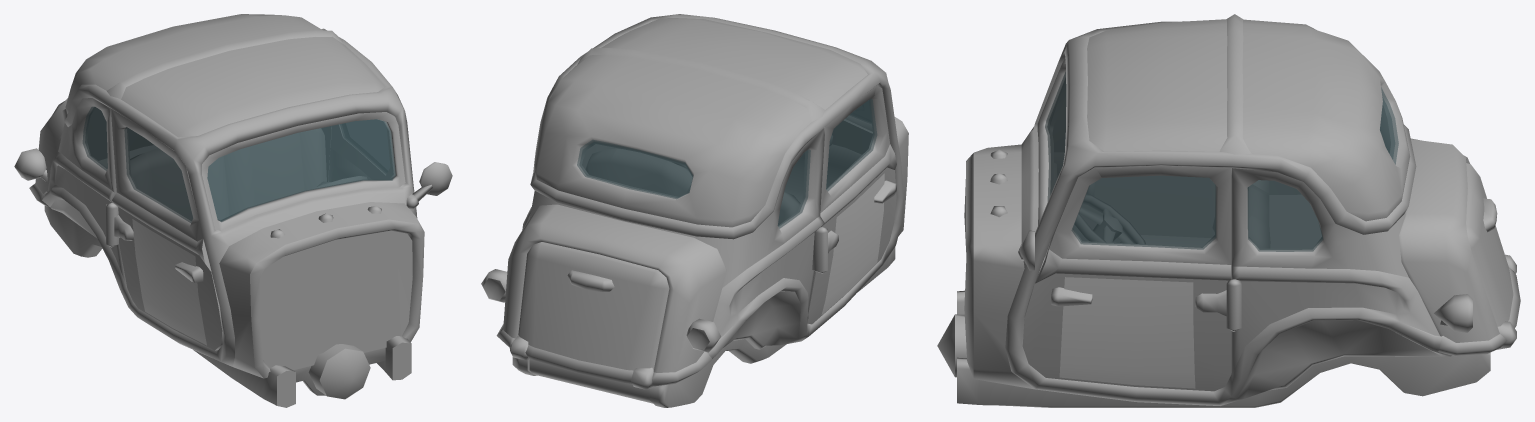
Rendered from Body_Anglia.fbx.
3 views of the same model, side by side, from view 1: azimuth 30°, elevation 25°; view 2: azimuth 150°, elevation 25°; view 3: azimuth 270°, elevation 25° (orthographic). The views are drawn at different scales.
Parts seen in each view (by area): view 1: Anglia_Body_Mesh, Anglia_Body_Window_Mesh, Anglia_Door_Right_Mesh, Anglia_Door_Right_Decal_Mesh, Anglia_Door_Right_Window_Mesh, Anglia_Door_Left_Mesh, Anglia_Door_Left_Window_Mesh, Anglia_Body_Rear_Trunk_Mesh; view 2: Anglia_Body_Mesh, Anglia_Body_Rear_Trunk_Mesh, Anglia_Door_Right_Mesh, Anglia_Body_Window_Mesh, Anglia_Door_Right_Decal_Mesh, Anglia_Door_Right_Window_Mesh; view 3: Anglia_Body_Mesh, Anglia_Door_Left_Mesh, Anglia_Body_Rear_Trunk_Mesh, Anglia_Door_Left_Decal_Mesh, Anglia_Door_Left_Window_Mesh, Anglia_Door_Right_Mesh, Anglia_Body_Window_Mesh, Body_SteerWheel_Mesh.
Boxes of the visible parts, <box> form: Anglia_Body_Mesh: <box>14,14,452,407</box>; Anglia_Body_Window_Mesh: <box>82,106,395,221</box>; Anglia_Door_Right_Mesh: <box>111,109,222,350</box>; Anglia_Door_Right_Decal_Mesh: <box>132,219,206,345</box>; Anglia_Door_Right_Window_Mesh: <box>124,127,193,222</box>; Anglia_Door_Left_Mesh: <box>329,124,393,181</box>; Anglia_Door_Left_Window_Mesh: <box>342,120,389,172</box>; Anglia_Body_Rear_Trunk_Mesh: <box>29,98,67,206</box>; Anglia_Body_Mesh: <box>481,14,908,407</box>; Anglia_Body_Rear_Trunk_Mesh: <box>496,204,726,389</box>; Anglia_Door_Right_Mesh: <box>807,85,896,324</box>; Anglia_Body_Window_Mesh: <box>577,101,870,228</box>; Anglia_Door_Right_Decal_Mesh: <box>821,173,884,315</box>; Anglia_Door_Right_Window_Mesh: <box>826,98,877,191</box>; Anglia_Body_Mesh: <box>937,14,1490,407</box>; Anglia_Door_Left_Mesh: <box>1022,166,1231,391</box>; Anglia_Body_Rear_Trunk_Mesh: <box>1399,138,1520,356</box>; Anglia_Door_Left_Decal_Mesh: <box>1059,277,1195,388</box>; Anglia_Door_Left_Window_Mesh: <box>1071,175,1216,249</box>; Anglia_Door_Right_Mesh: <box>1045,97,1214,255</box>; Anglia_Body_Window_Mesh: <box>1045,72,1398,251</box>; Body_SteerWheel_Mesh: <box>1075,194,1145,243</box>.
Bounding box in the file's own units: 173 × 173 × 286.
